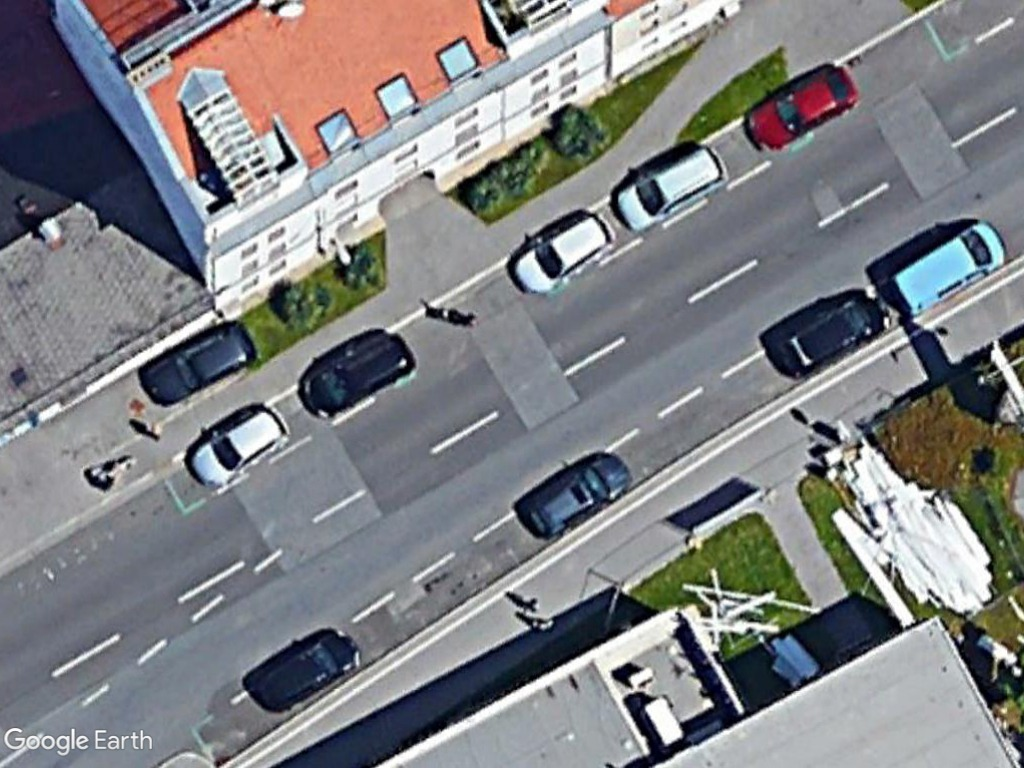car: (514, 443, 635, 544), (135, 315, 259, 413), (242, 616, 363, 716), (294, 324, 414, 424), (612, 137, 733, 236), (766, 289, 886, 384), (739, 61, 861, 153), (502, 202, 614, 300), (186, 395, 292, 490)
van: (886, 216, 1009, 319)
